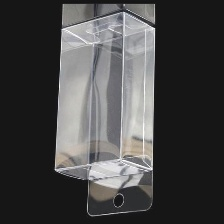plastic_box: (44, 5, 162, 221)
